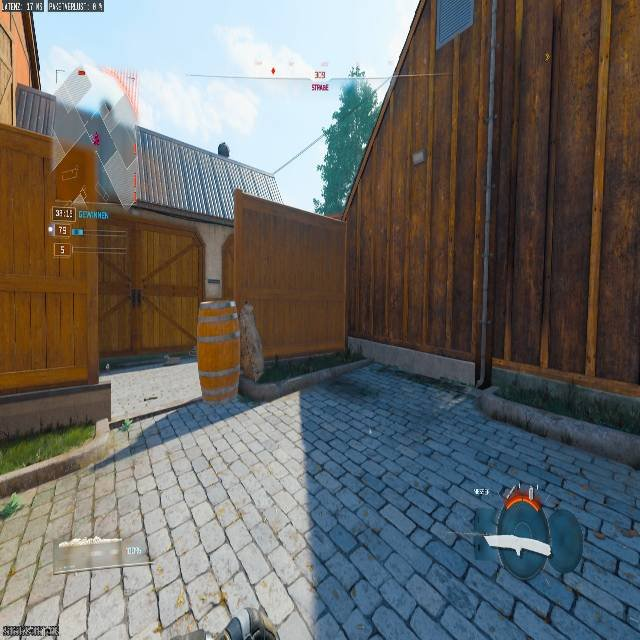player: (217, 142, 229, 158)
